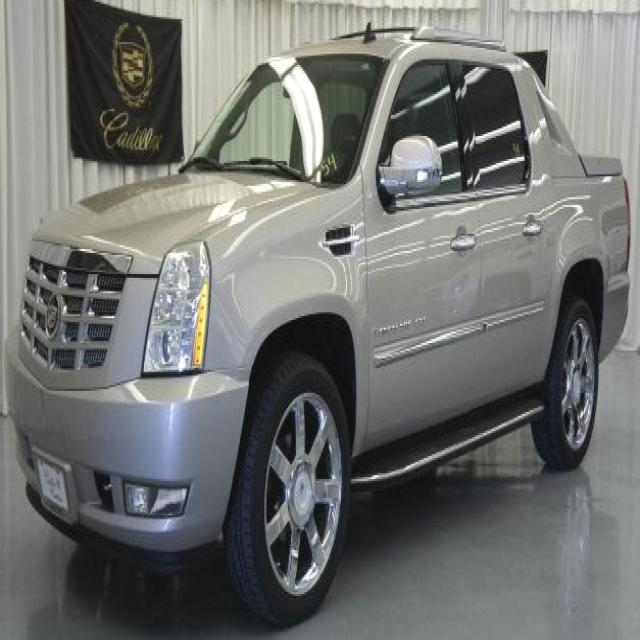CMT: (5, 30, 624, 619)
